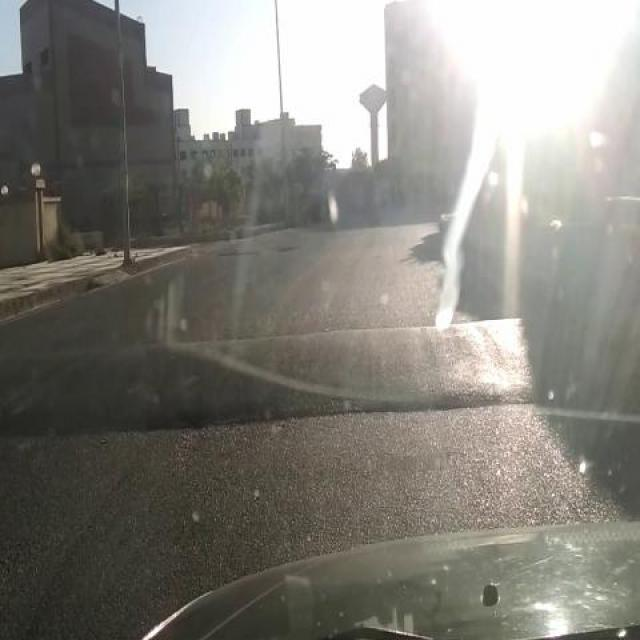Unmarked Bump: (0, 316, 523, 438)
